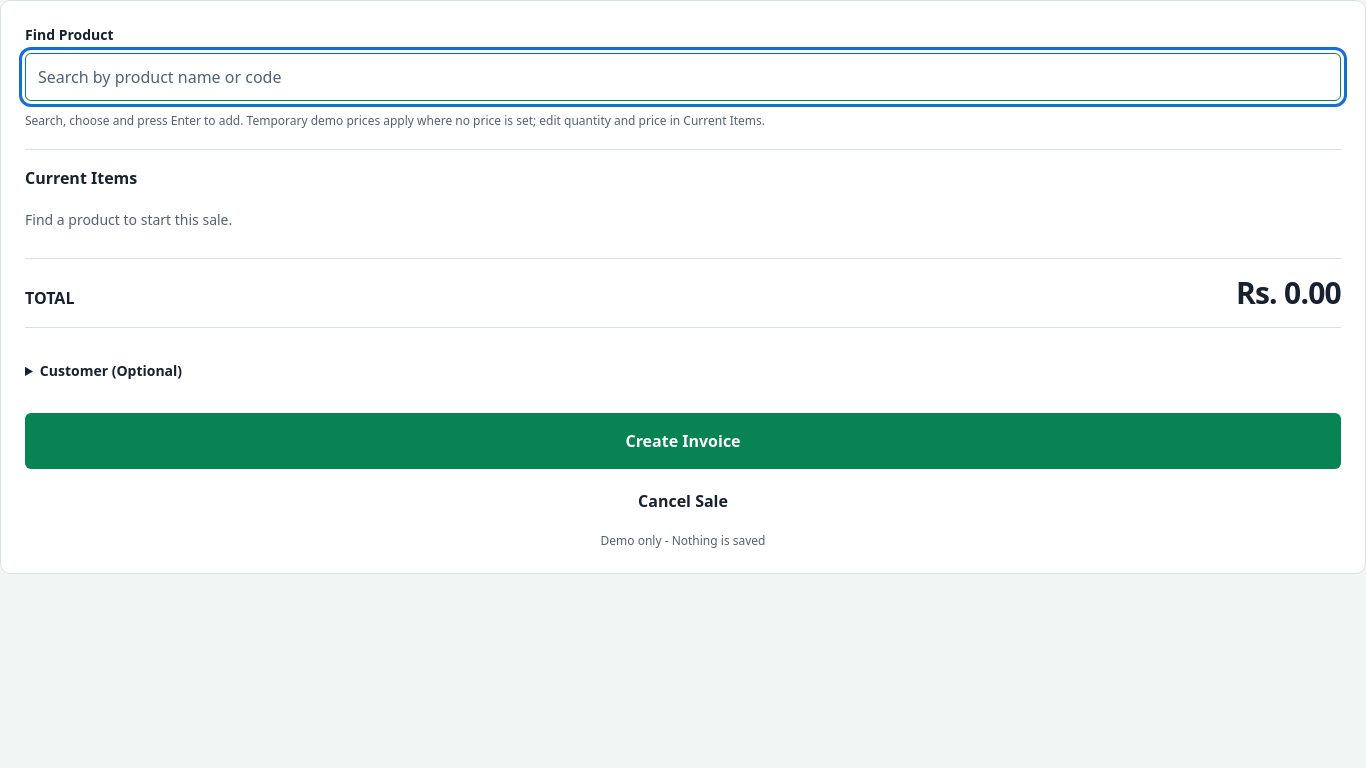
Test: rejects invalid optional cash 100.999 without changing receipt totals
Type "dia" into the dropdown labelled "Find Product".
click(683, 77); type("dia")  # box [25, 53, 1341, 101]
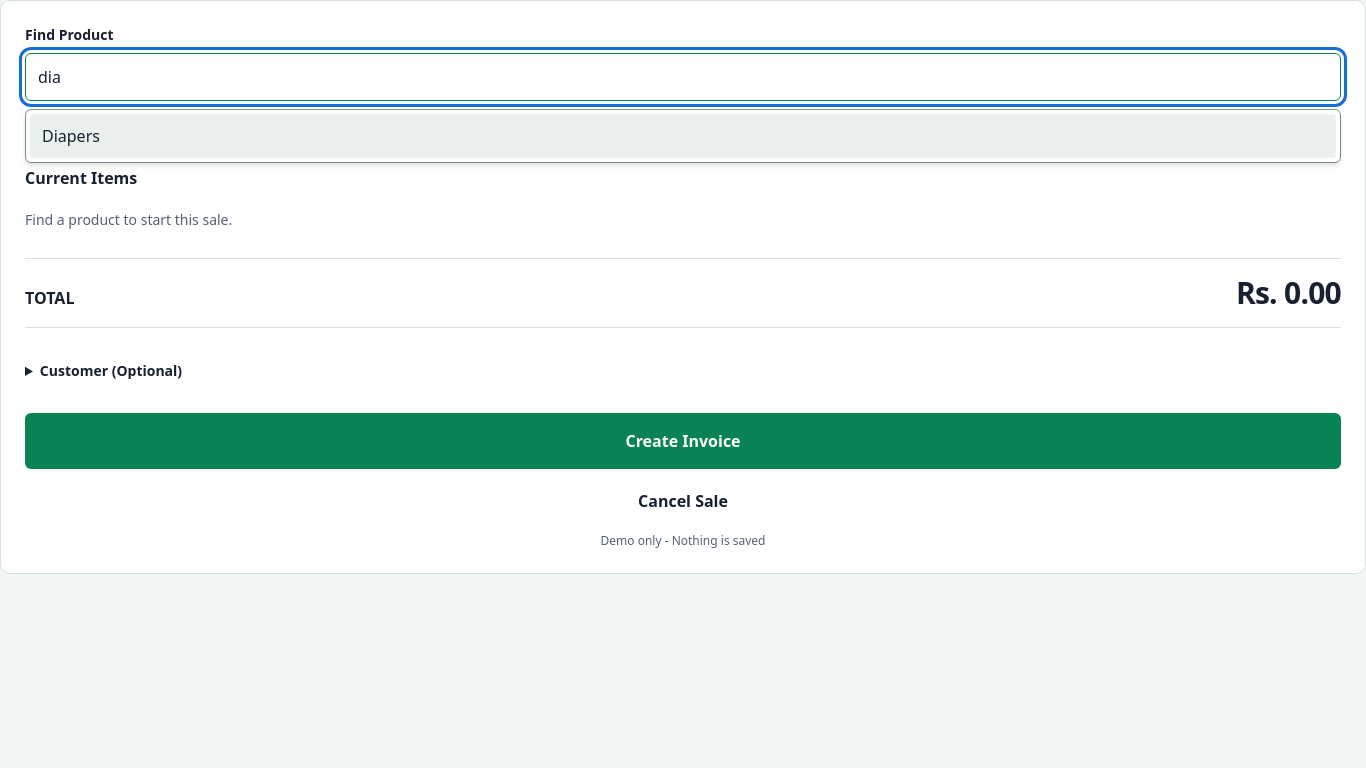
Press Enter in the dropdown labelled "Find Product", box [25, 53, 1341, 101]
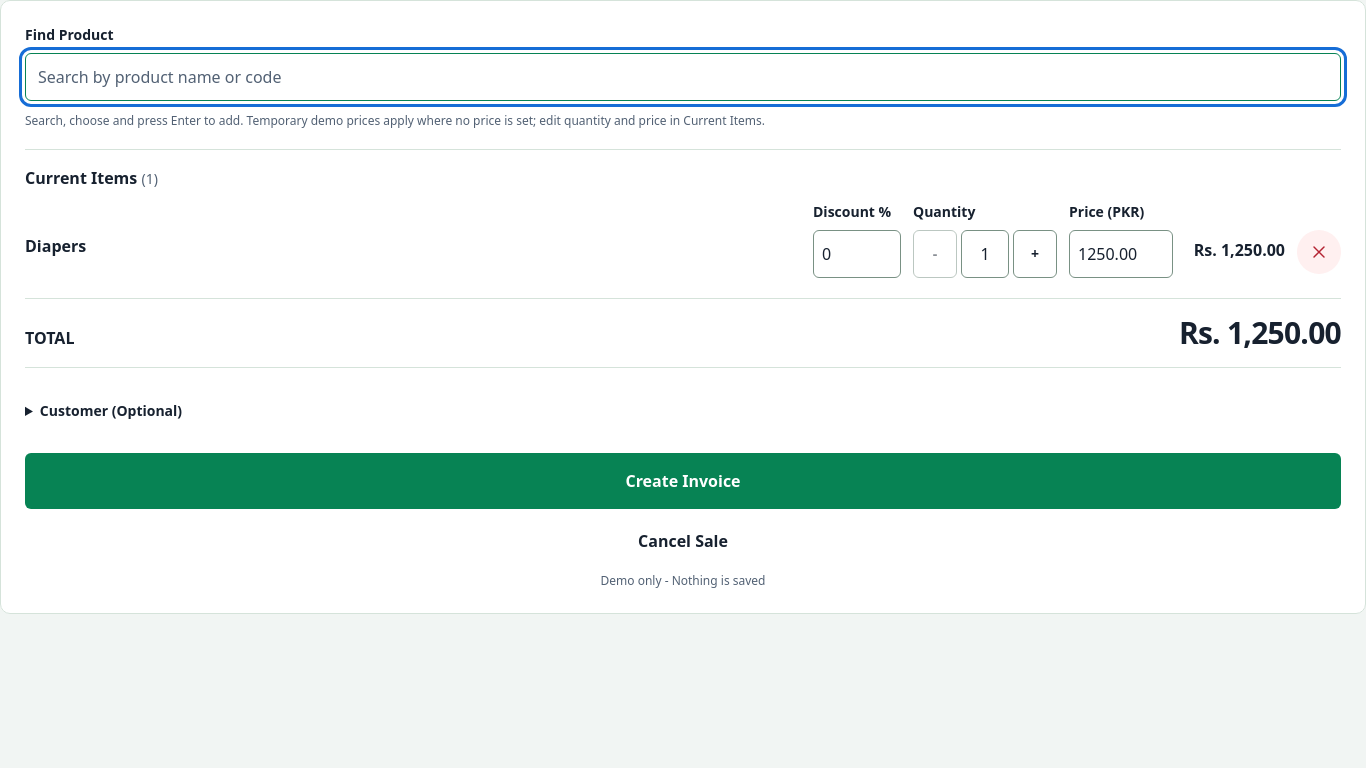
Replace the text in the field named "Diapers quantity, item 1" with "2" at (985, 254), box [961, 230, 1009, 278]
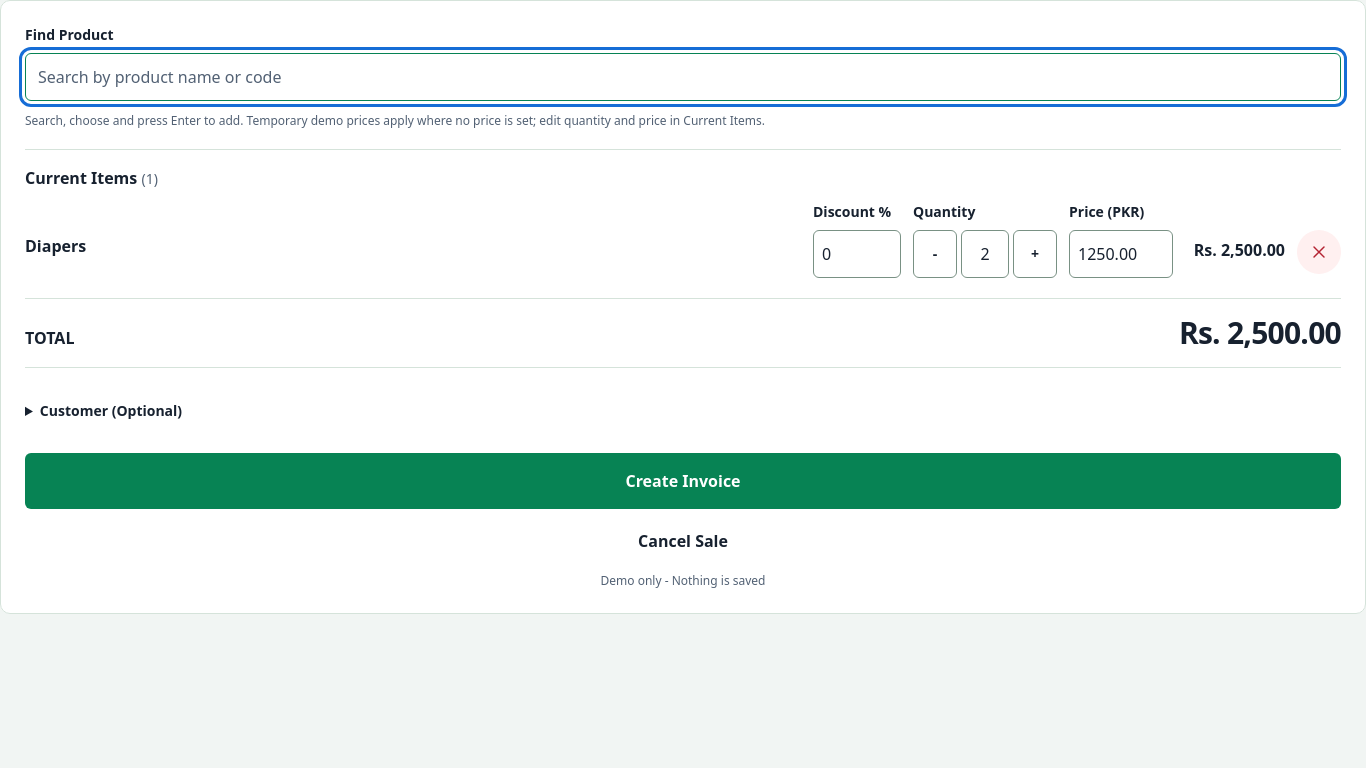
Replace the text in the field named "Diapers price (PKR), item 1" with "1250.25" at (1121, 254), box [1069, 230, 1173, 278]
Clear the field named "Diapers discount (%), item 1" at (857, 254), box [813, 230, 901, 278]
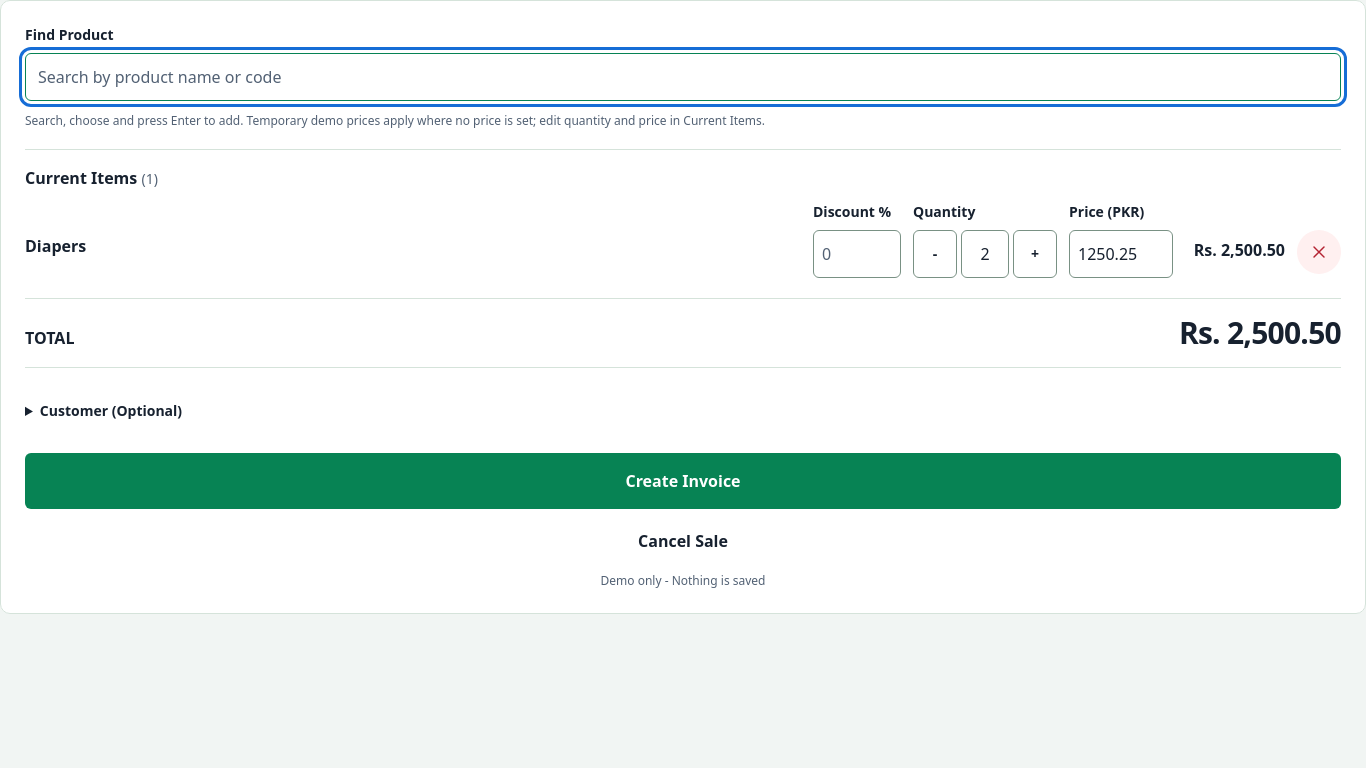
Click the button "Create Invoice".
click(683, 481)  # box [25, 453, 1341, 509]
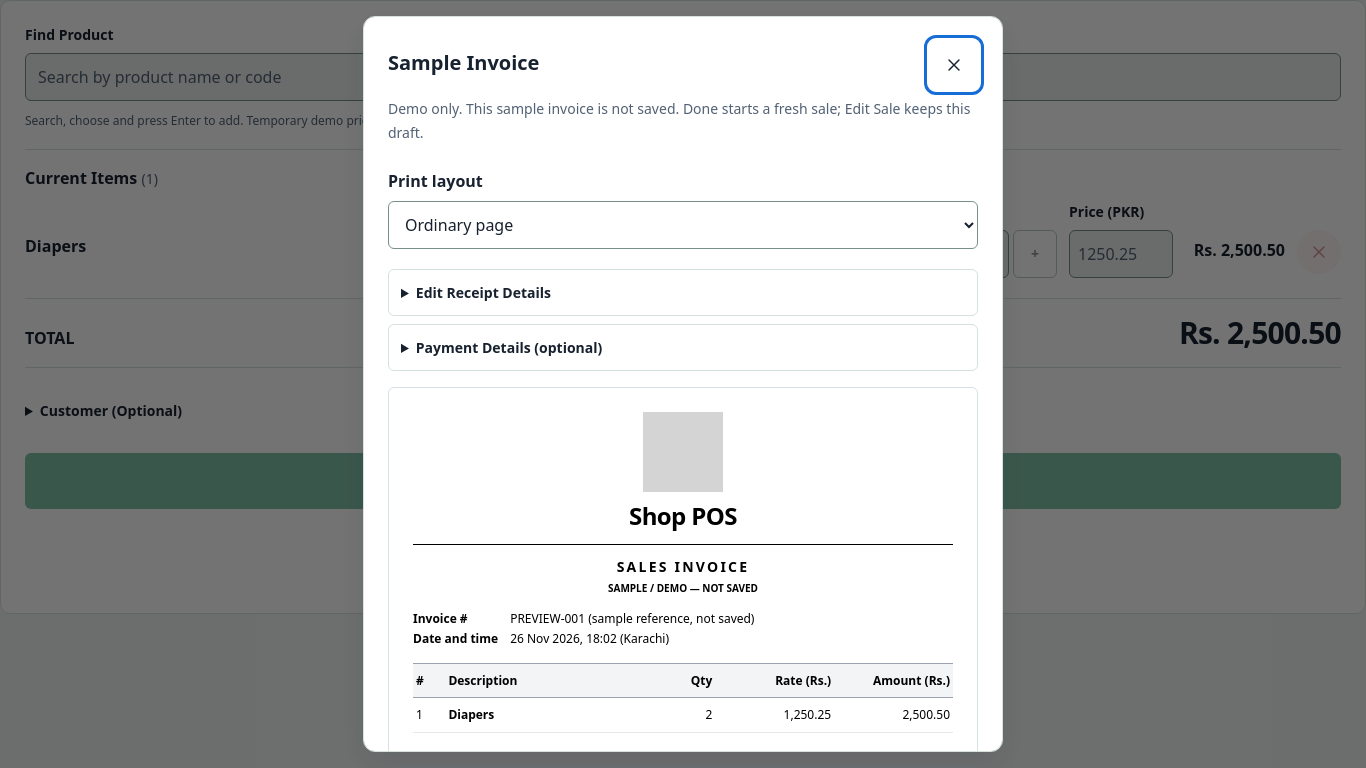
Replace the text in the field named "Cash Received (PKR, optional)" with "100.999" at (683, 348), box [388, 324, 978, 371]
(page scrolled)
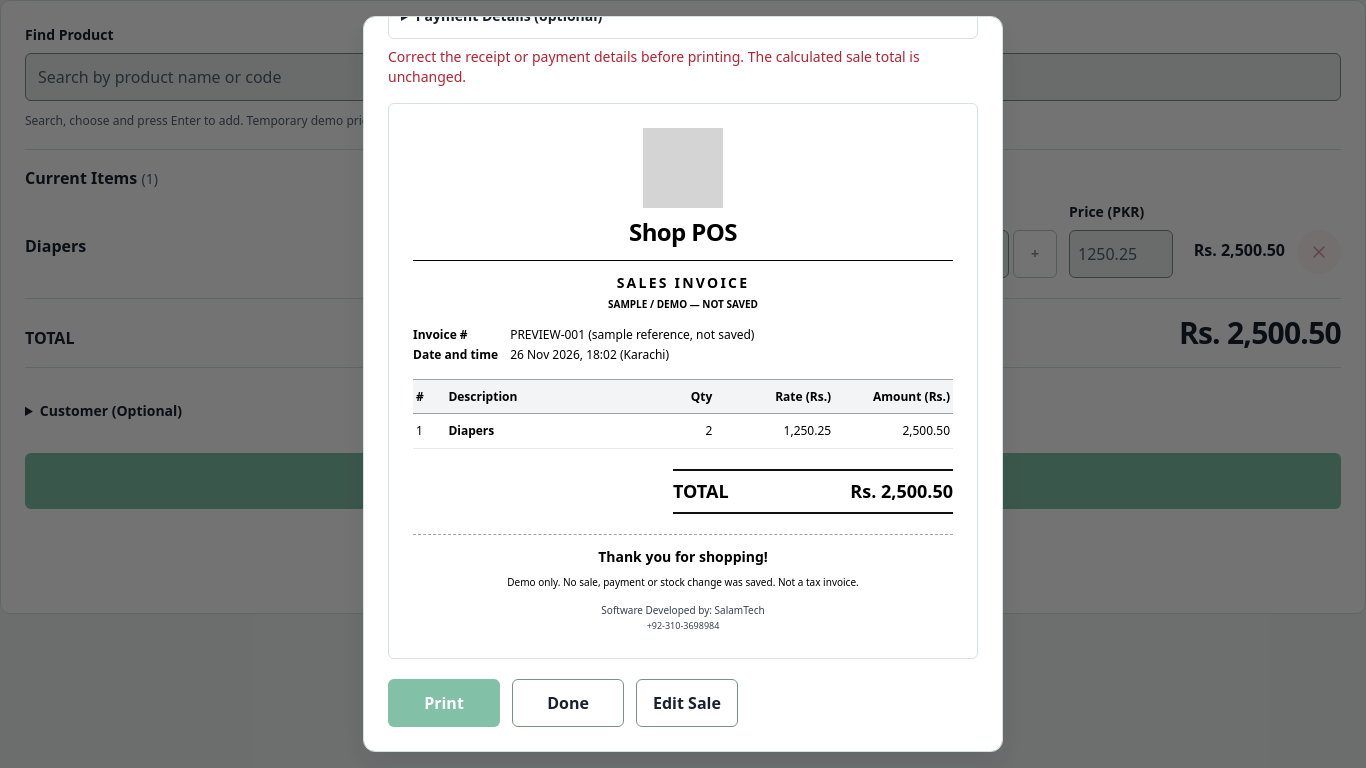
expect the button "Print" is disabled: met, box [388, 678, 500, 726]
expect the text with test id "receipt-total" reads "Rs. 2,500.50": met, box [850, 479, 953, 503]
